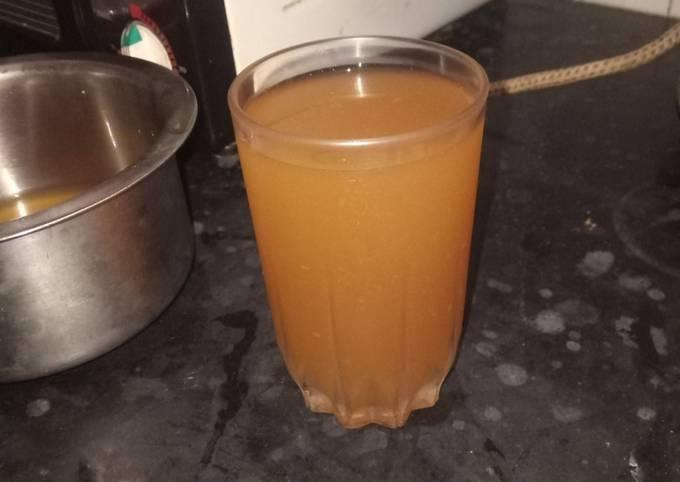glass-normal: (224, 31, 492, 433)
